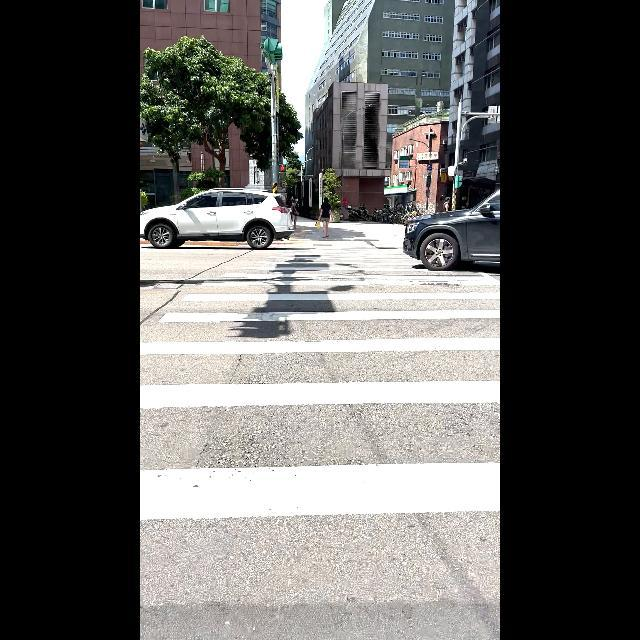sidewalk: (140, 242, 500, 640)
